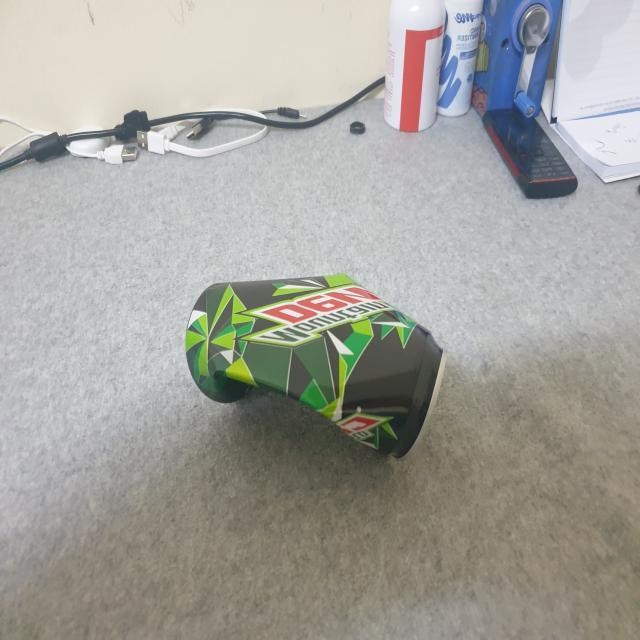can: (174, 264, 459, 472)
